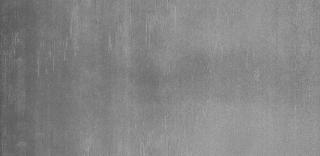silk spot: (104, 12, 186, 62), (12, 21, 62, 62)
